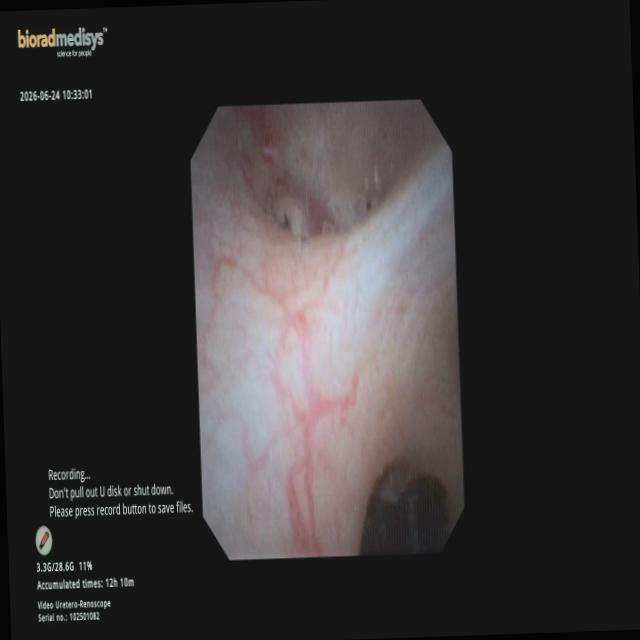stone-new: (360, 473, 447, 553)
